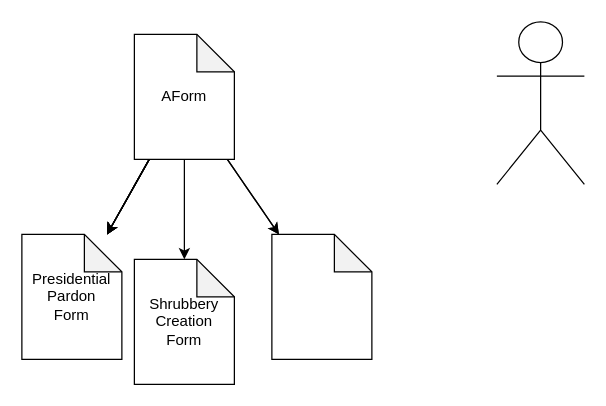
This 606x406 diagram has some shape labels left out. Here are the shapes that lost their labels. From the top down, the centre of each, then its label:
At point 540,102: "Bureaucrat".
At point 321,296: "Robotomy Request Form".
